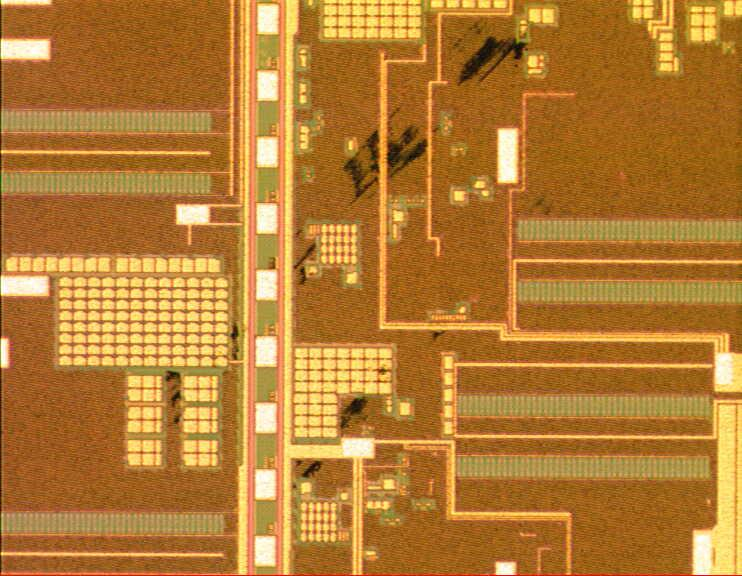SCRATCH: (162, 13, 569, 500)
